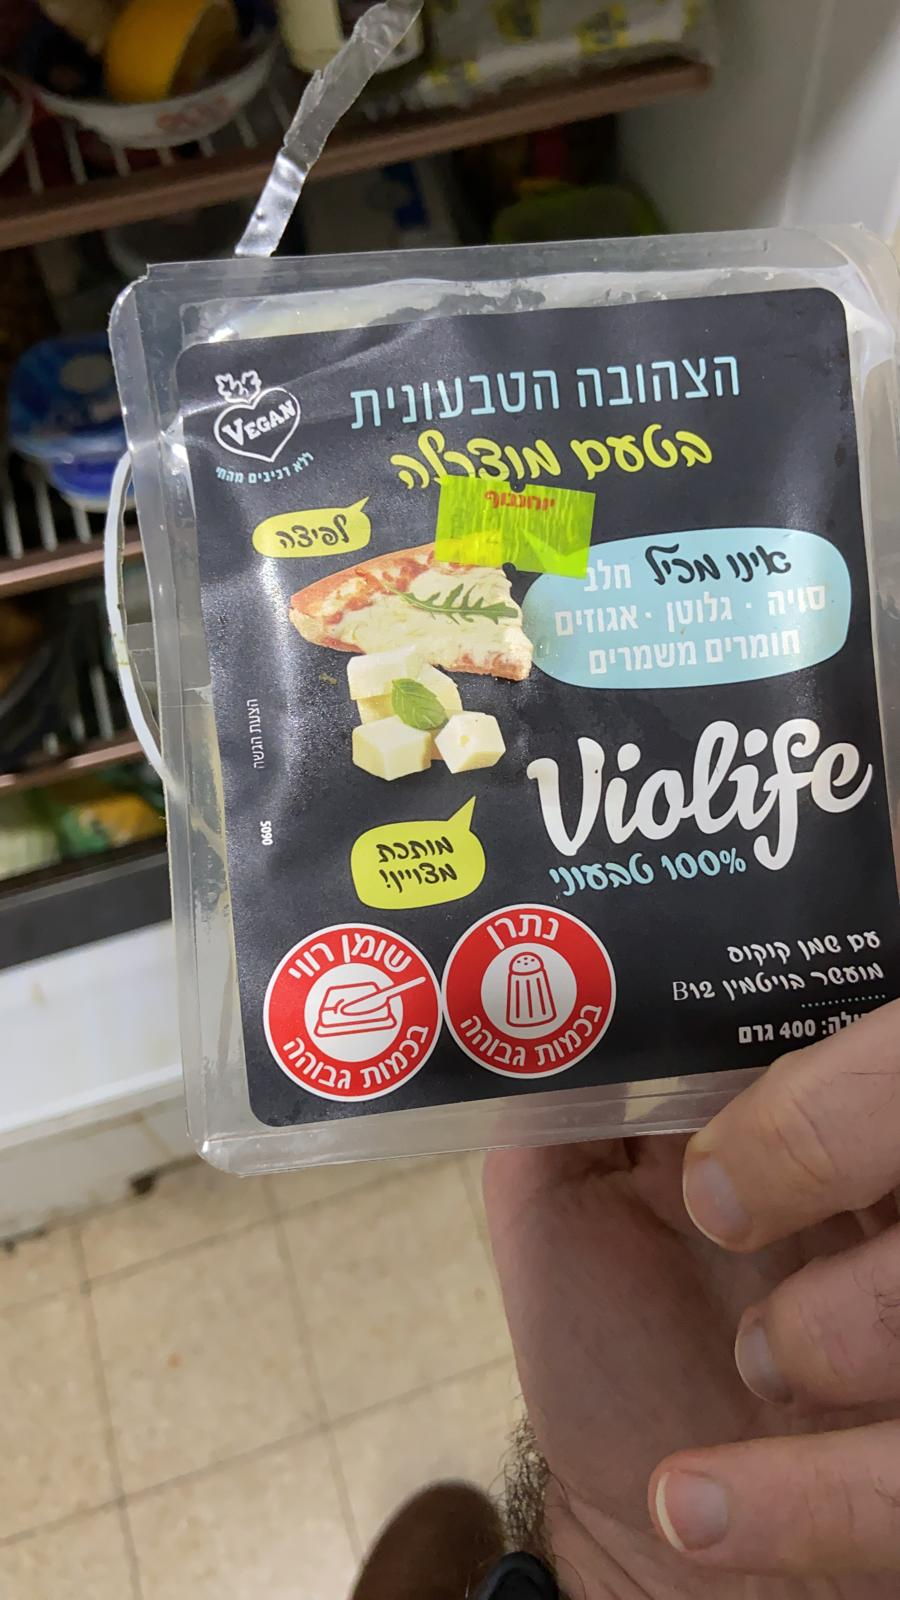fat: (262, 921, 444, 1103)
salt: (438, 901, 616, 1084)
